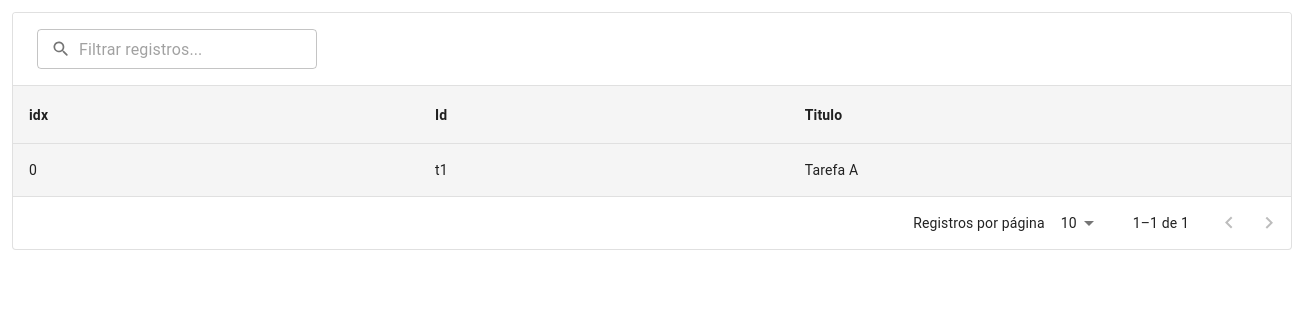
ExternalScreen — master/detail (st-10) › botão voltar restaura a lista sem fazer novo fetch
# Abrir detalhe
Click the text "Tarefa A": point(1040, 171) [789,144,1291,197]
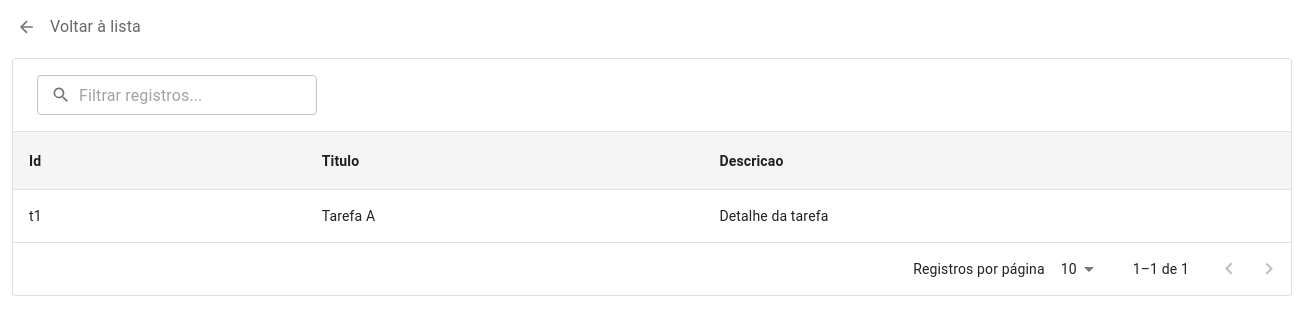
Expected: the text "Detalhe da tarefa" is shown, [703,190,1291,243]
# Clicar em voltar à lista
Click the button named "voltar": point(27, 27) [12,12,42,42]
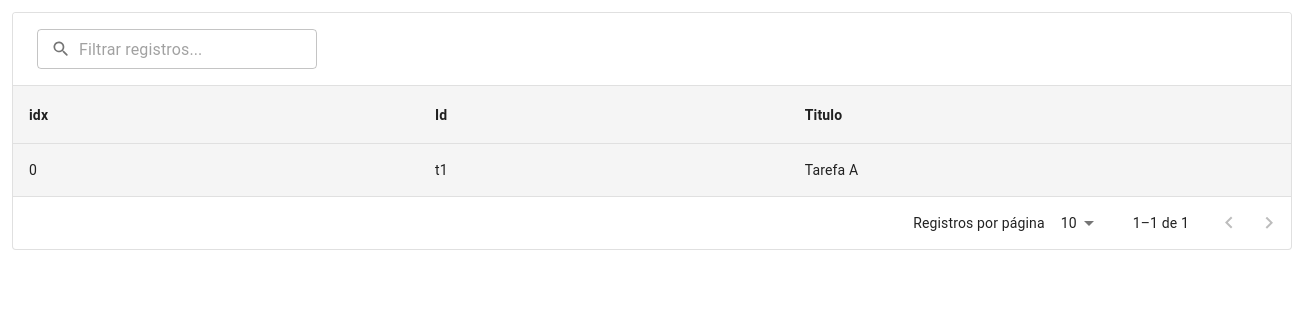
Expected: the text "Tarefa A" is shown, [789,144,1291,197]
